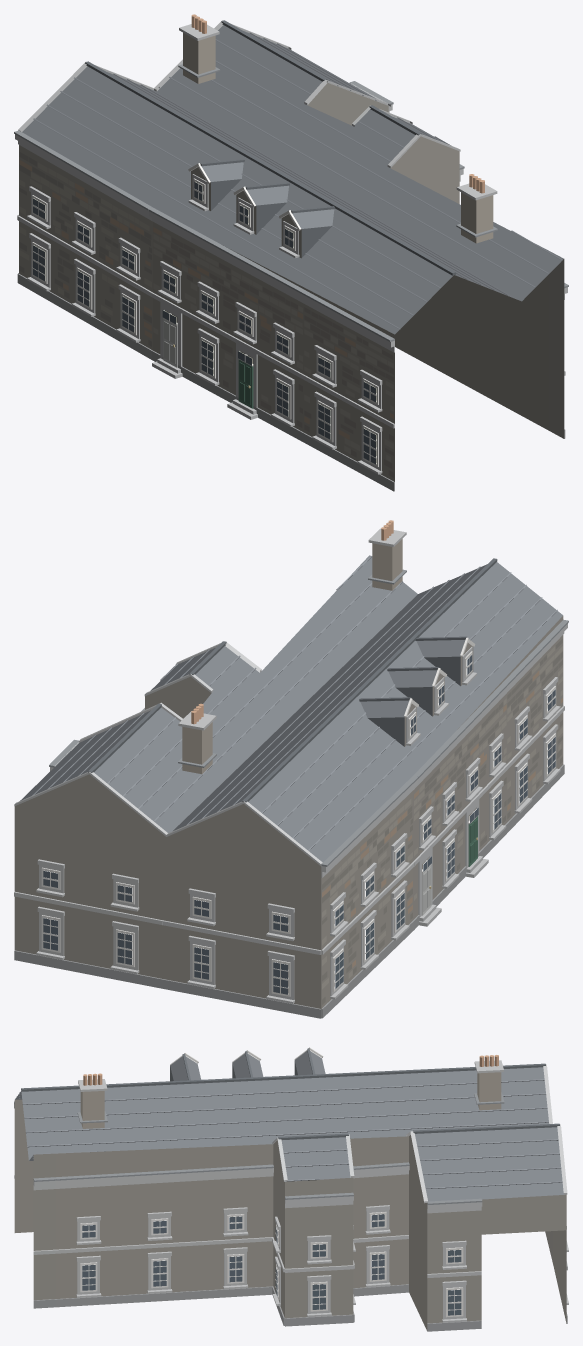
3 views of the same model, one above another, from view 1: azimuth 30°, elevation 25°; view 2: azimuth 150°, elevation 25°; view 3: azimuth 270°, elevation 25° (orthographic). The views are drawn at different scales.
Parts seen in each view (by area): view 1: slate, rubble, stone_band, slate_lt, rubble_dk, rubble_lt, slate_dk, frame, plinth, lead, chim_stone, rubble_rust; view 2: slate, rubble, stone_band, slate_lt, frame, plinth, slate_dk, rubble_dk, rubble_lt, lead, chim_stone, rubble_rust; view 3: rubble, slate, stone_band, slate_lt, plinth, frame, slate_dk, lead, chim_stone, pot.
Boxes of the visible parts, box(x1,y1,x2,y2) form: slate: box(22, 25, 563, 334); rubble: box(19, 83, 564, 481); stone_band: box(15, 20, 567, 474); slate_lt: box(33, 32, 562, 329); rubble_dk: box(19, 151, 393, 477); rubble_lt: box(19, 162, 393, 461); slate_dk: box(85, 20, 455, 275); frame: box(32, 163, 378, 466); plinth: box(17, 273, 565, 491); lead: box(14, 64, 568, 341); chim_stone: box(183, 33, 493, 243); rubble_rust: box(19, 159, 393, 439); slate: box(20, 555, 562, 862); rubble: box(14, 616, 563, 1008); stone_band: box(14, 528, 567, 1003); slate_lt: box(32, 556, 557, 850); frame: box(41, 637, 555, 996); plinth: box(14, 764, 564, 1018); slate_dk: box(88, 558, 497, 802); rubble_dk: box(322, 639, 562, 1004); rubble_lt: box(322, 646, 562, 989); lead: box(49, 569, 568, 866); chim_stone: box(182, 539, 402, 774); rubble_rust: box(322, 670, 562, 967); rubble: box(14, 1099, 566, 1330); slate: box(15, 1051, 564, 1201); stone_band: box(14, 1060, 568, 1322); slate_lt: box(16, 1079, 562, 1188); plinth: box(33, 1284, 567, 1331); frame: box(80, 1047, 463, 1317); slate_dk: box(21, 1048, 559, 1140); lead: box(14, 1092, 504, 1204); chim_stone: box(80, 1072, 501, 1128); pot: box(83, 1055, 498, 1085).
Size of the model in its own units: 16.18 by 12.2 by 29.01.
